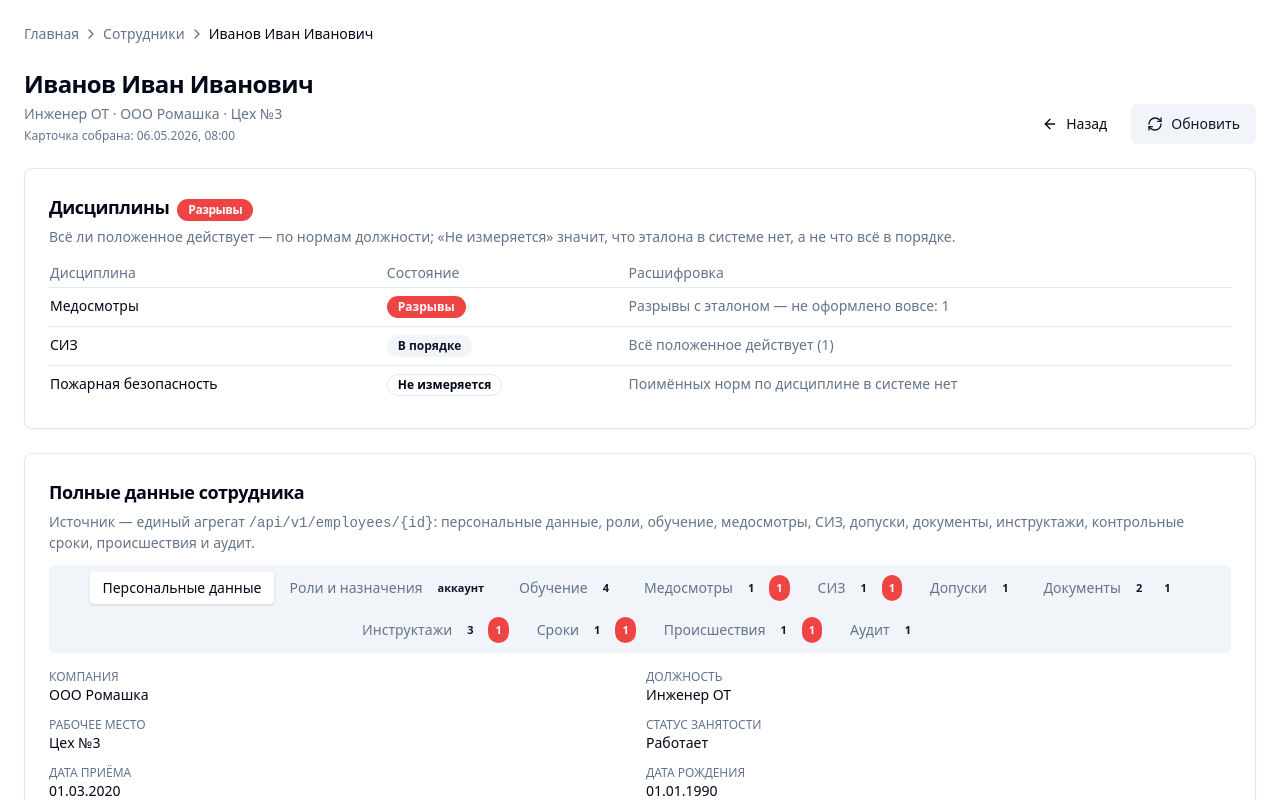
Test case: EmployeeCardPage › opens the Deadlines tab with overdue badge for medical exam
Expected: the heading "Иванов Иван Иванович" is shown, [24,68,313,100]
What coordinates should you click on to do the following:
click the tab "Сроки 1 1"
I would click on:
 (586, 630)
Its box is [525,611,648,649].
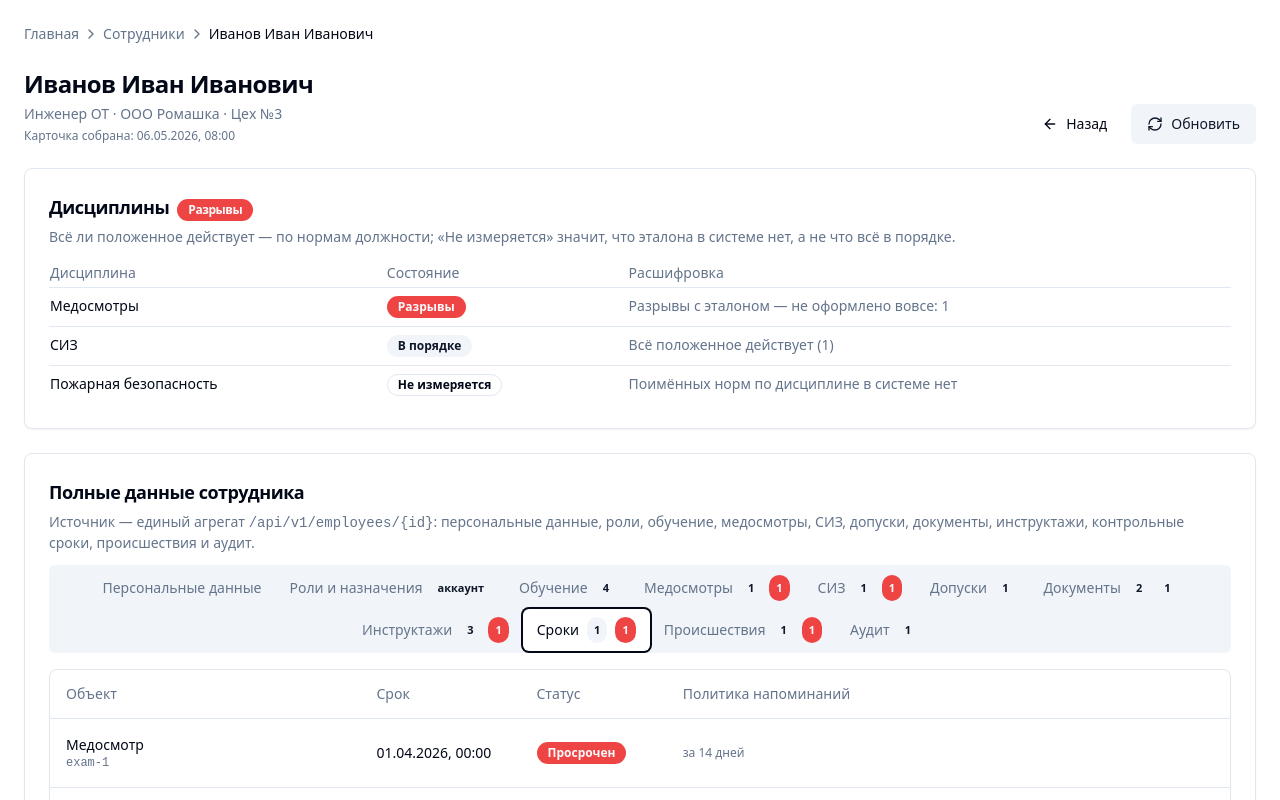
Expected: the text "Медосмотр" is shown, [66,734,144,754]
Expected: the text "Просрочен" is shown, [536,742,626,764]
